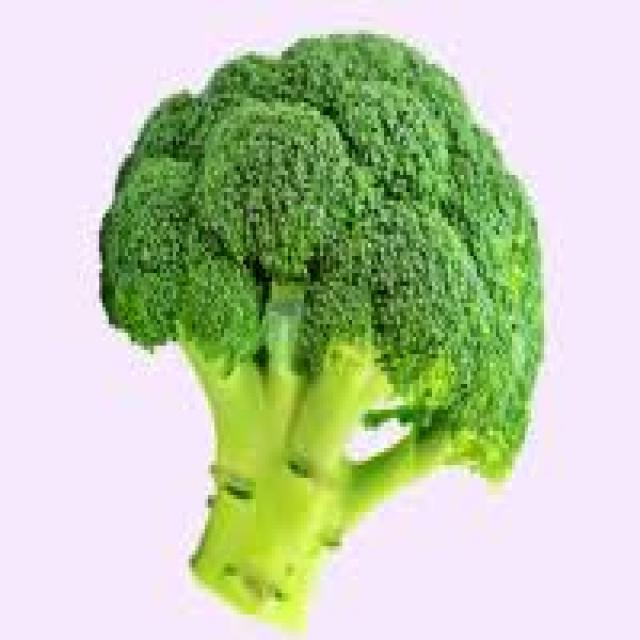organic waste: (92, 26, 538, 614)
